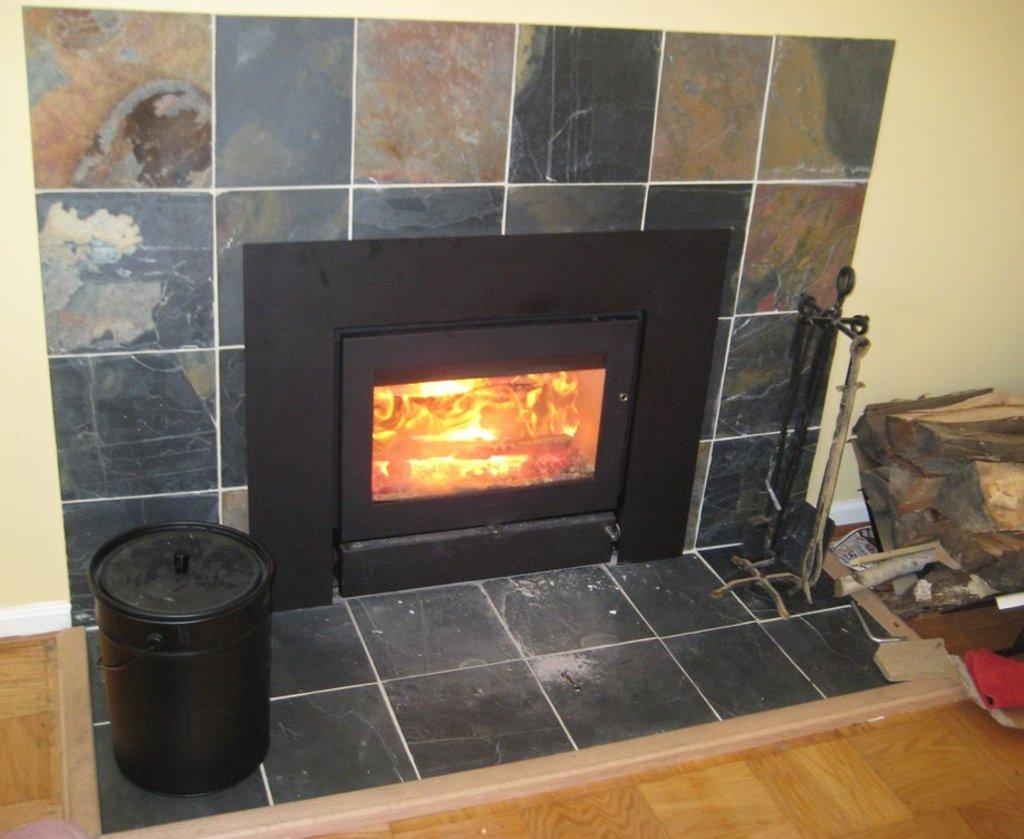fire: (376, 380, 596, 481)
